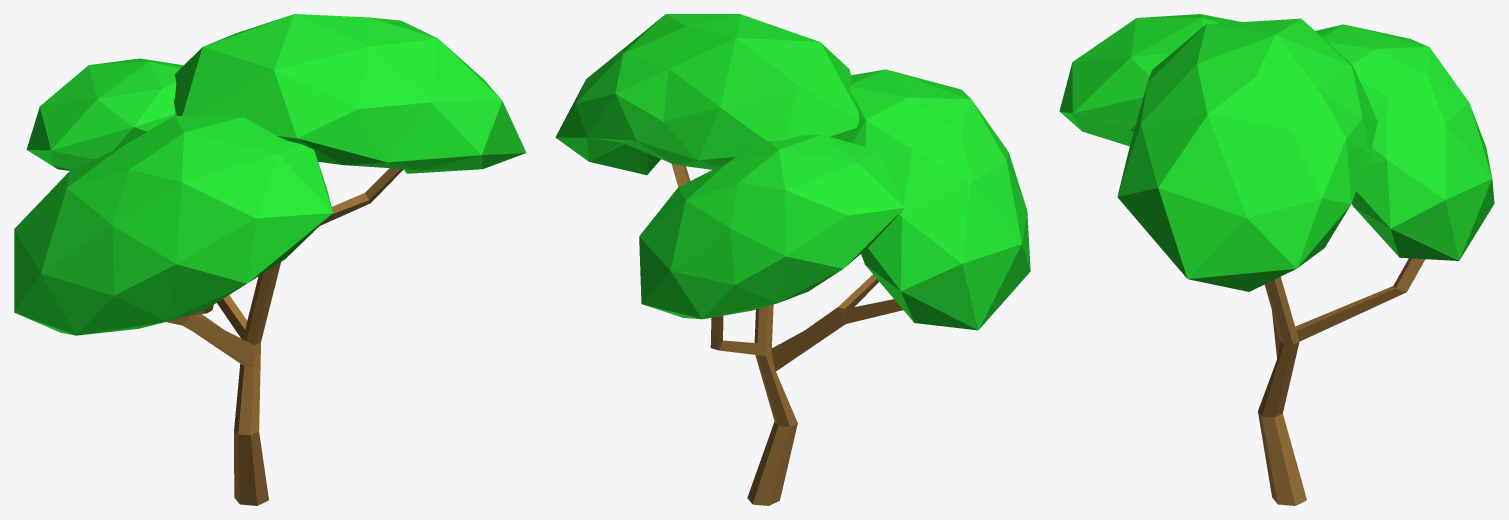
The model's file is tree4.fbx.
3 views of the same model, side by side, from view 1: azimuth 30°, elevation 25°; view 2: azimuth 150°, elevation 25°; view 3: azimuth 270°, elevation 25° (orthographic). The views are drawn at different scales.
Visible parts, largest first — view 1: Tree_Type3_03_mesh; view 2: Tree_Type3_03_mesh; view 3: Tree_Type3_03_mesh.
Part boxes in pixels (x1,y1,x2,y2): Tree_Type3_03_mesh: [14, 14, 526, 505]; Tree_Type3_03_mesh: [555, 14, 1030, 505]; Tree_Type3_03_mesh: [1059, 14, 1494, 505].
Bounding box in the file's own units: 444 × 437 × 357.
